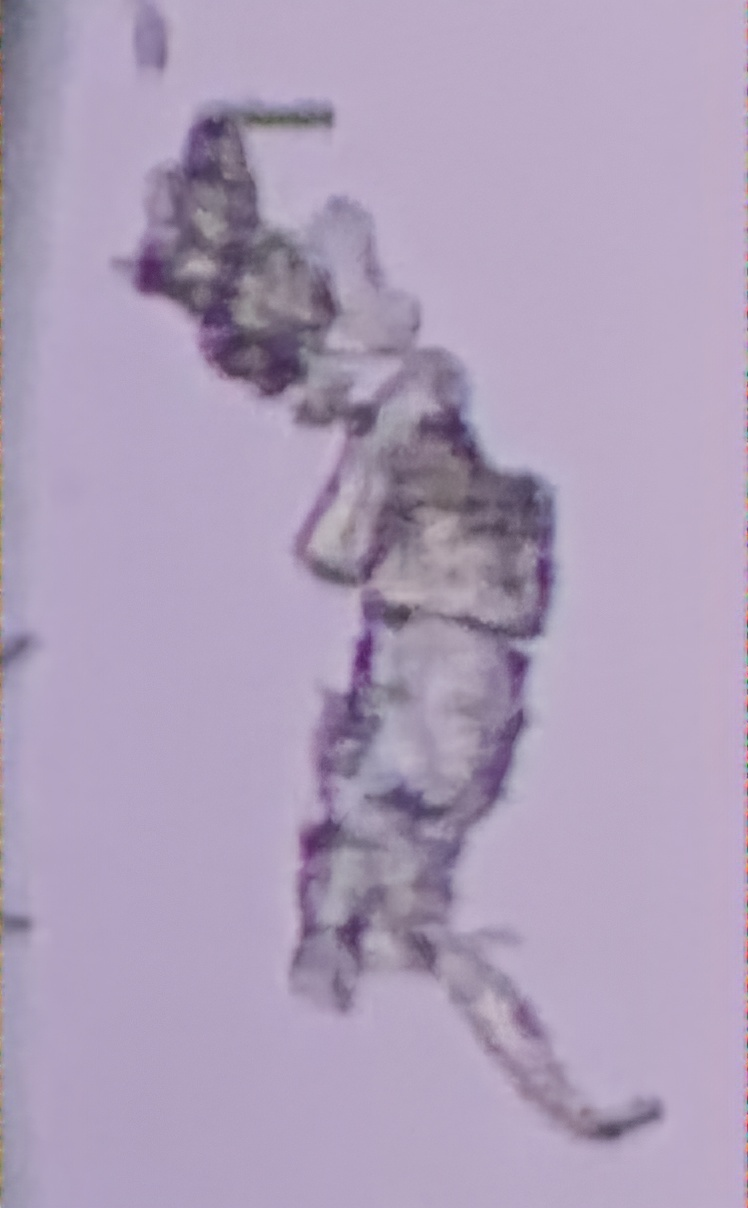microplastic: (98, 94, 684, 1174)
